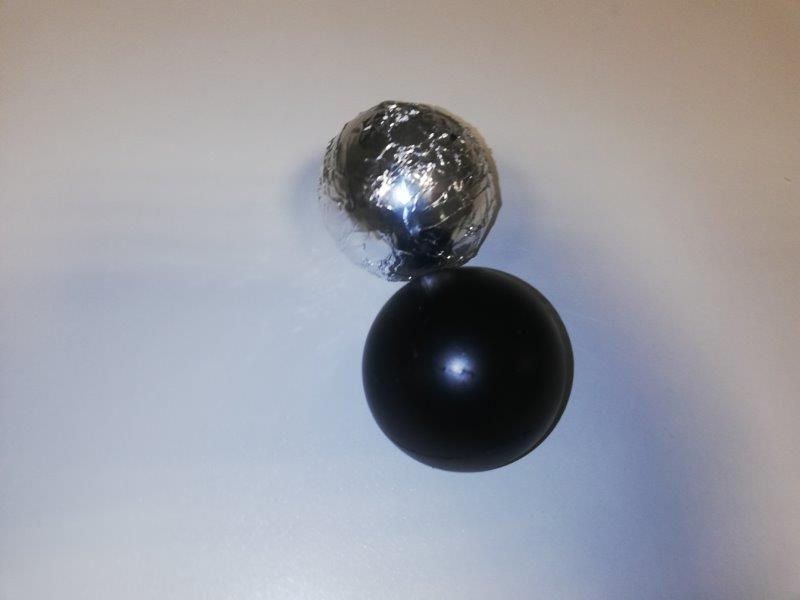bianca: (316, 98, 494, 275)
nera: (365, 268, 571, 470)
